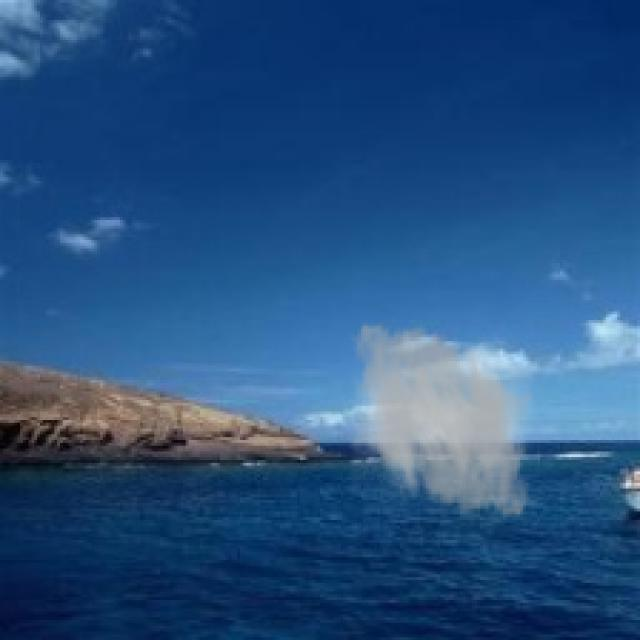Smoke: (341, 314, 548, 526)
